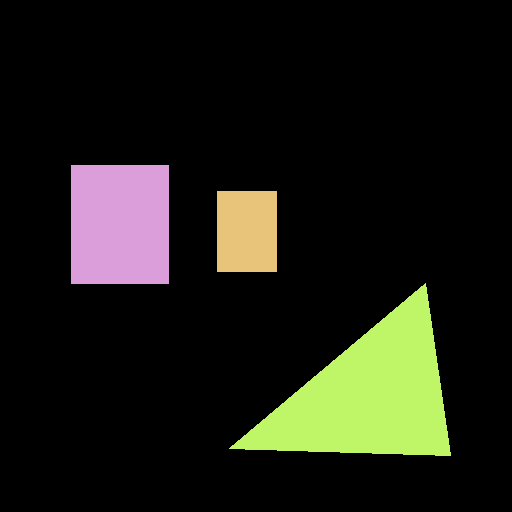rectangle: (71, 165, 168, 283), (217, 191, 276, 271)
triangle: (229, 283, 450, 455)
